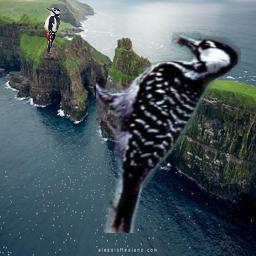Woodpecker: (96, 31, 241, 233), (44, 8, 60, 53)
